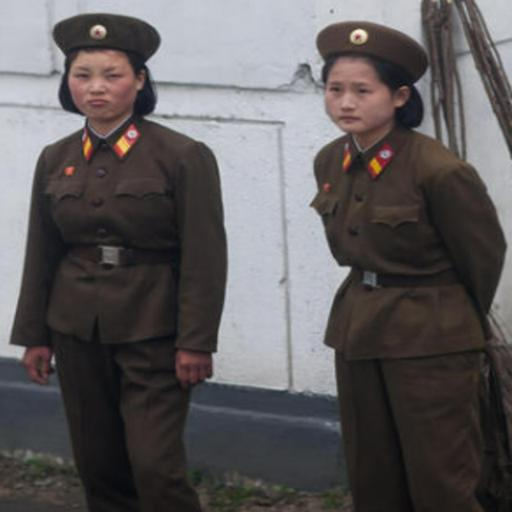north army: (0, 11, 259, 512), (253, 13, 512, 509)
